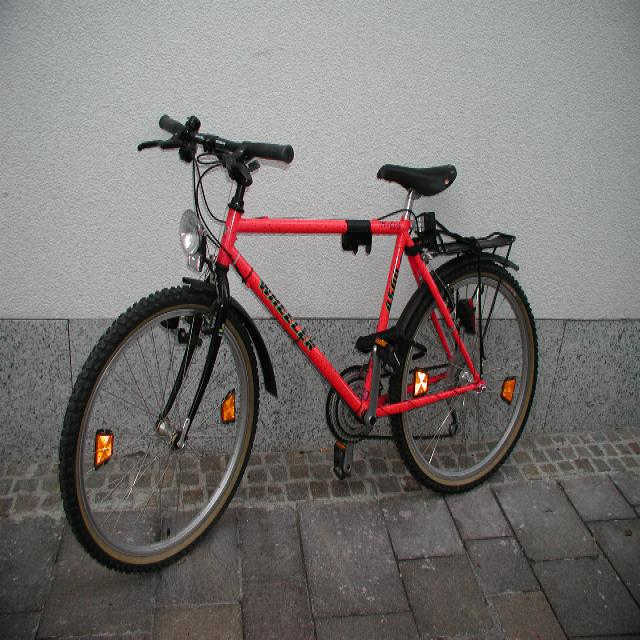bicycle: (57, 112, 538, 572)
